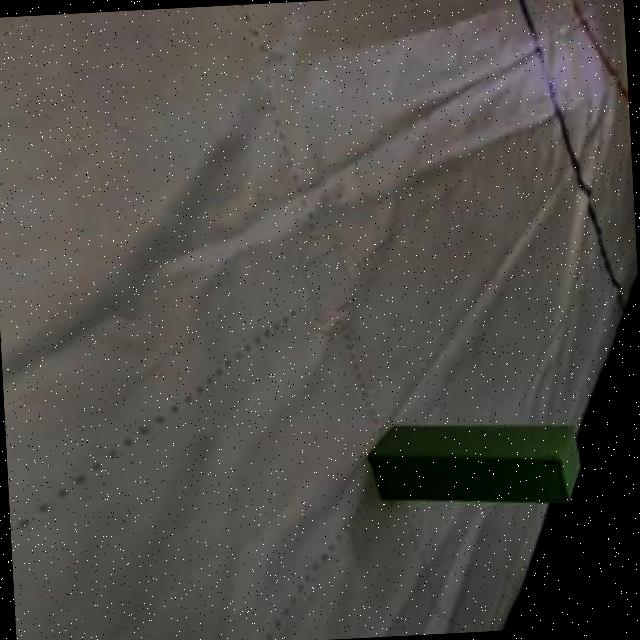greenbox: (366, 414, 591, 516)
